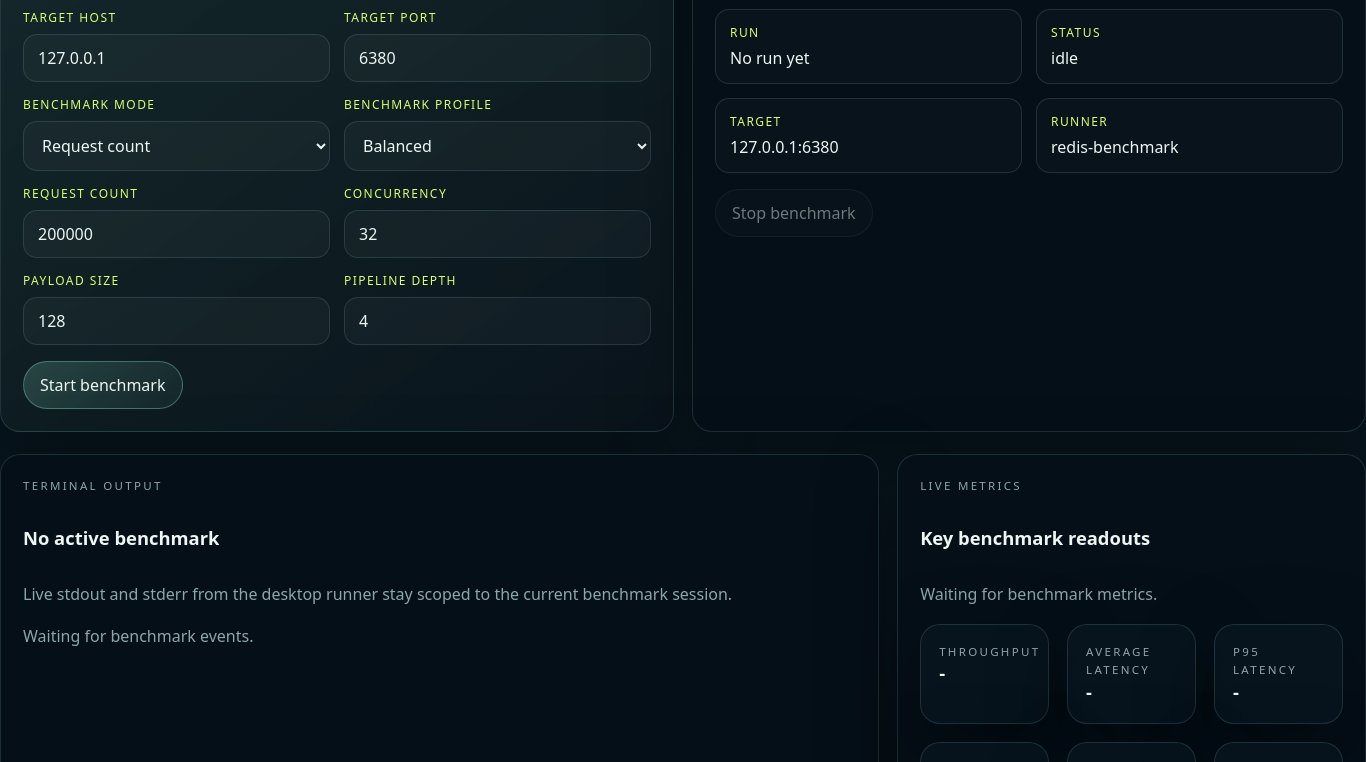
Scenario: benchmarks page › shows actionable guidance when benchmark stop fails
This screenshot has width=1366, height=762.
(page scrolled)
Click the button "Start benchmark" at (103, 385), box [23, 361, 182, 409]
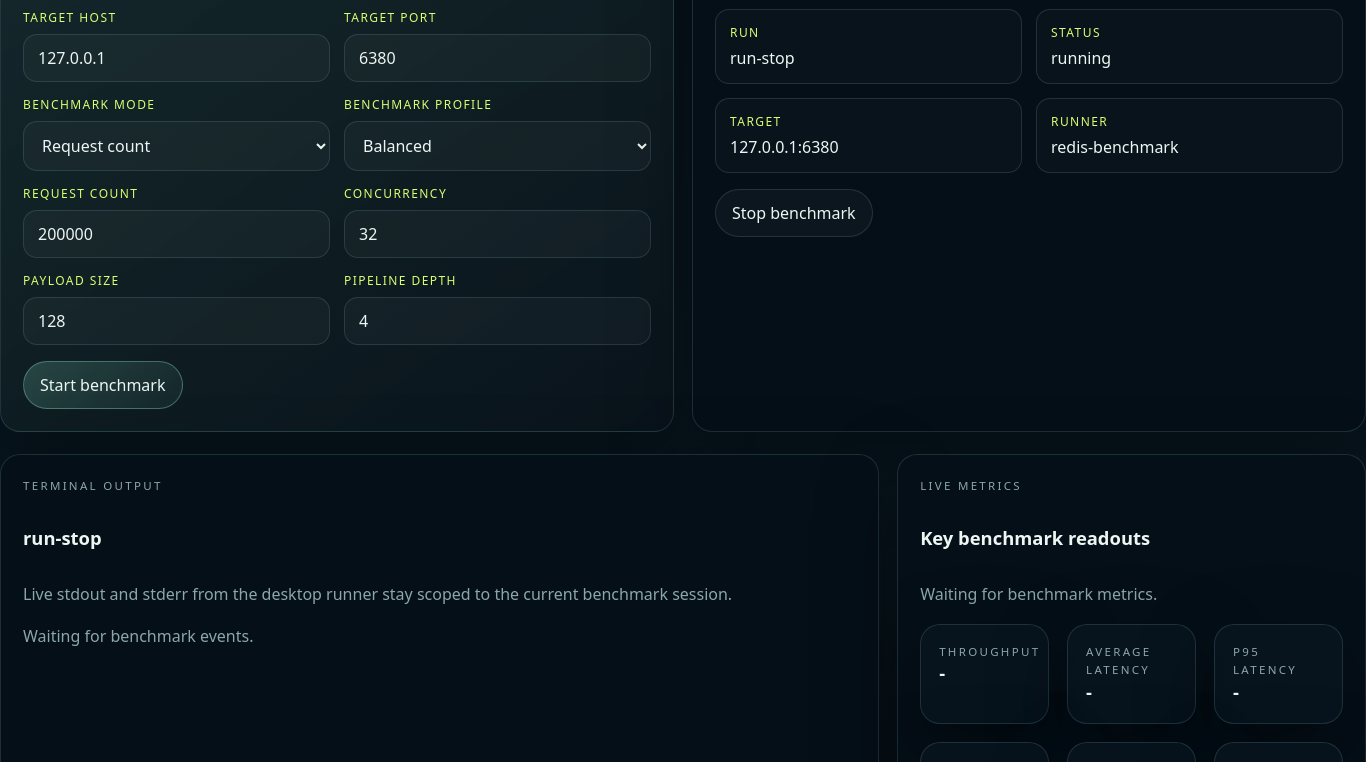
Click the button "Stop benchmark" at (794, 213), box [715, 189, 873, 237]
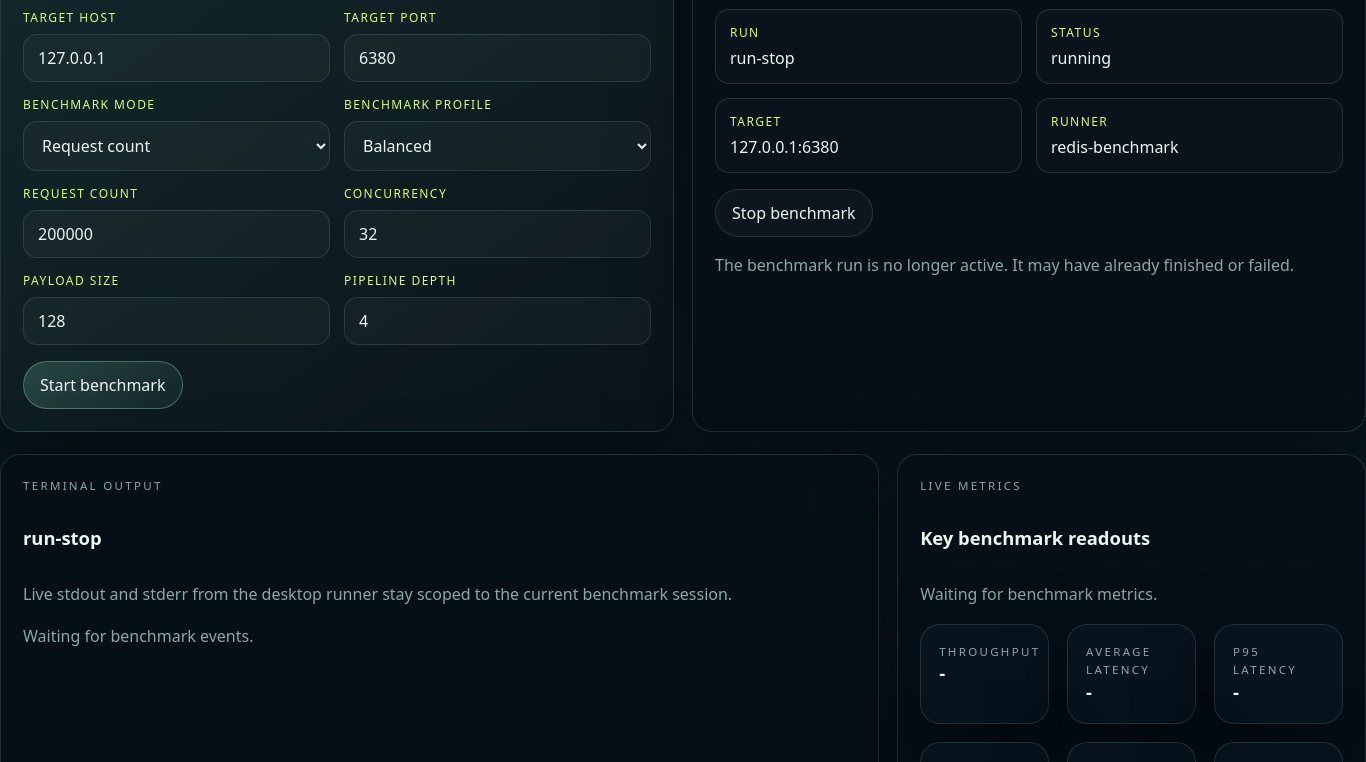
Expected: the text "The benchmark run is no longer active" is shown, [715, 254, 1294, 276]
